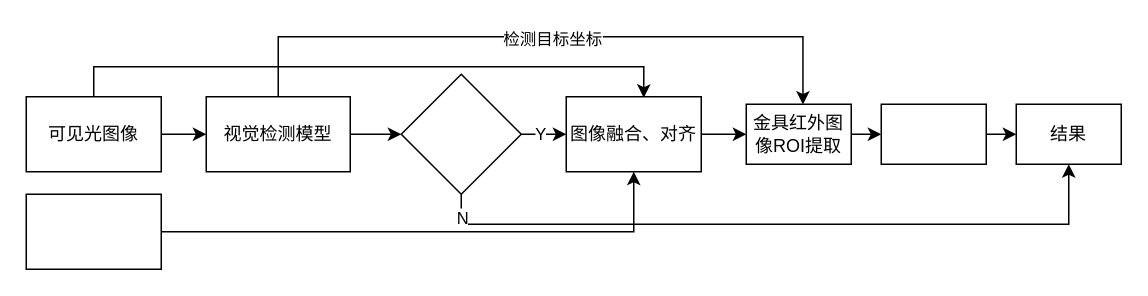
This 1148x296 diagram has some shape labels left out. Here are the shapes that lost their labels. From the top down, the box of each, then its label:
(400, 73, 521, 194): 存在检测金具？
(880, 103, 986, 164): 光斑检测和过热分析
(25, 193, 161, 269): 热成像图像
